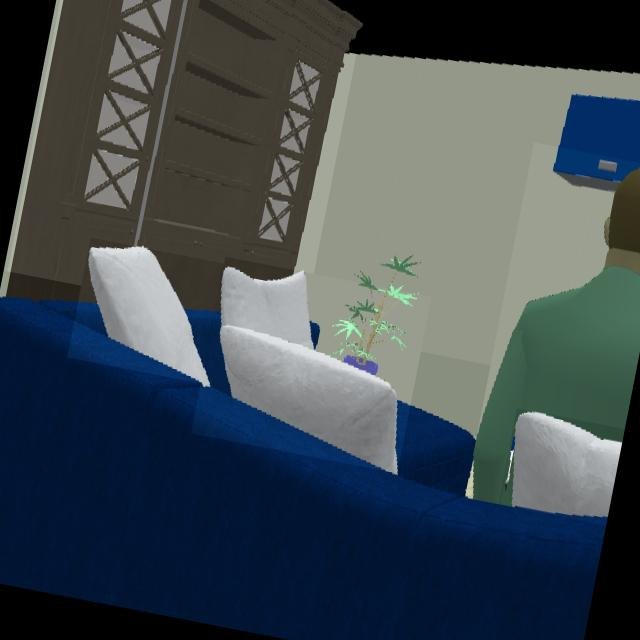bookshelf: (5, 0, 361, 313)
person: (472, 169, 640, 505)
pillow: (219, 268, 397, 474), (89, 246, 209, 385), (511, 411, 622, 518)
sofa: (0, 298, 608, 640)
